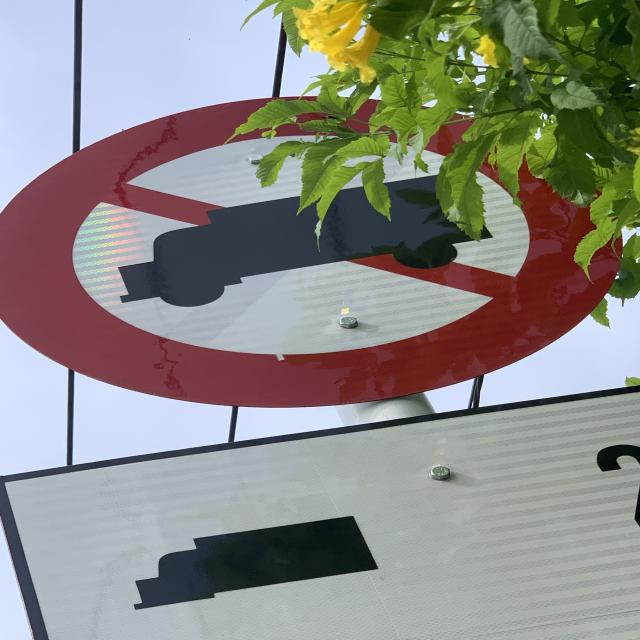Cam_Xe_Tai: (0, 90, 622, 406)
